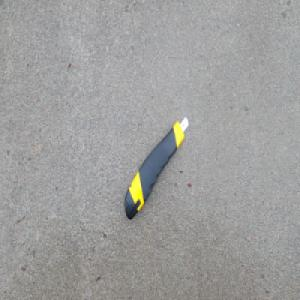Cutter: (124, 115, 189, 222)
